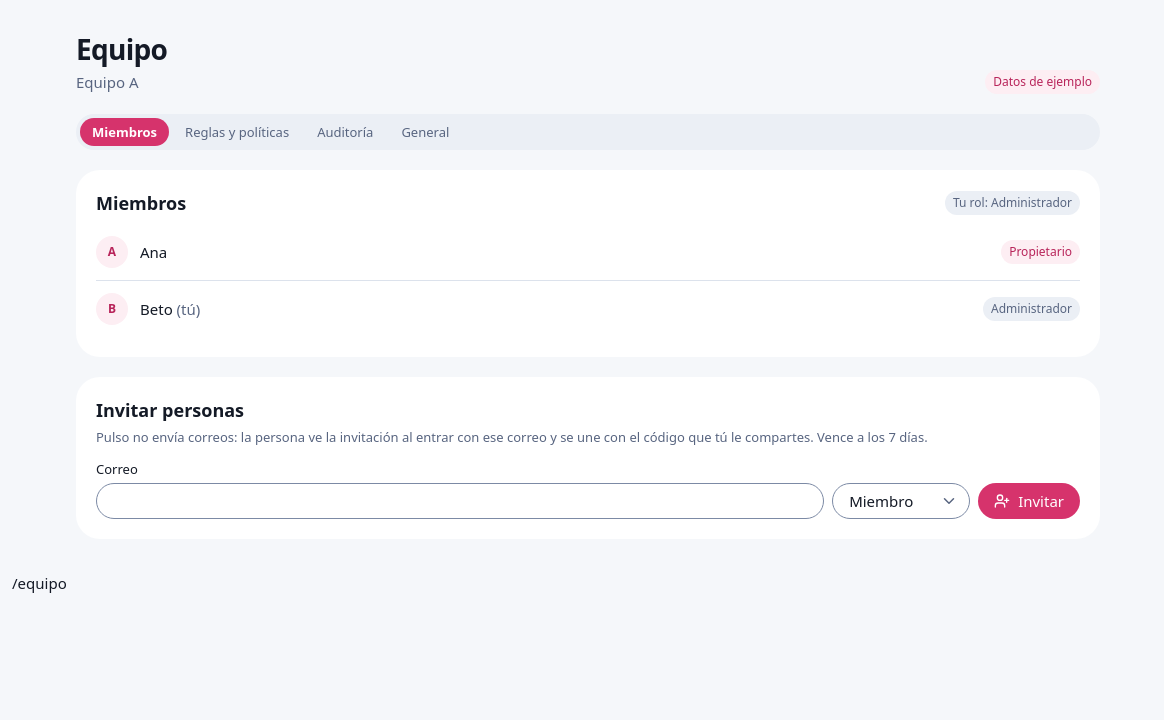
Scenario: Auditoría (EQ-10, AC-22) › si falla la carga inicial, muestra el error traducido en lugar de la lista
Click the tab "Auditoría" at (345, 132), box x1=305 y1=118 x2=385 y2=146
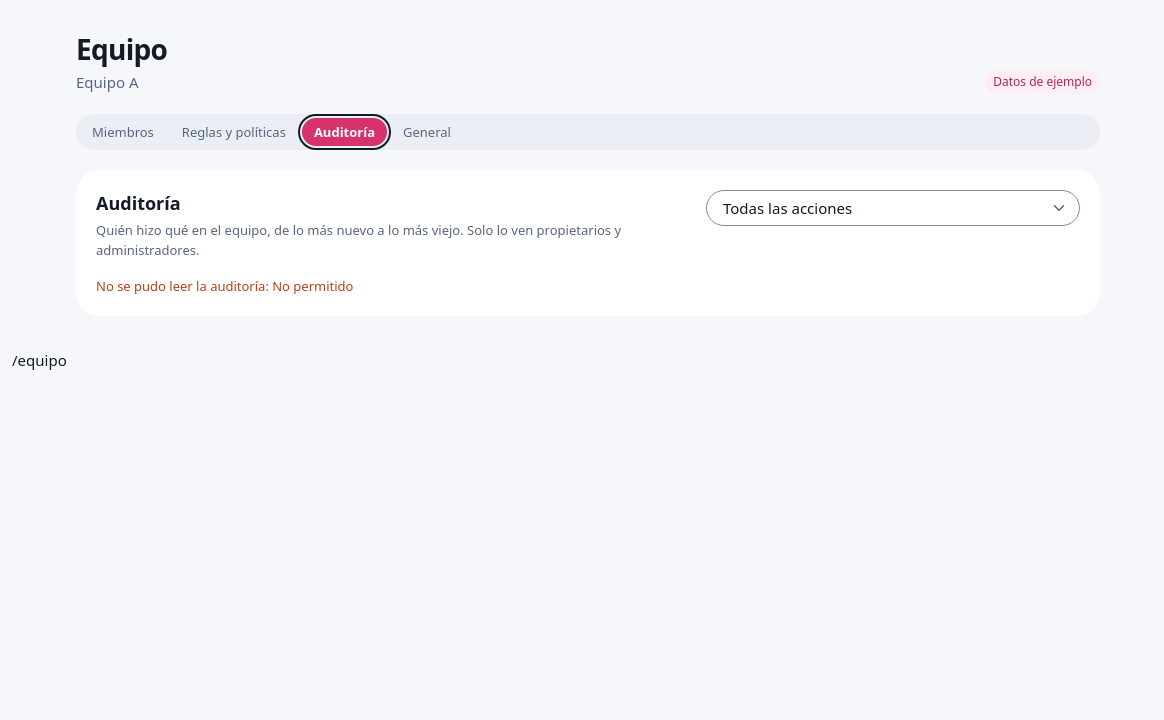
Result: the message shows "No se pudo leer la auditoría" at x1=96 y1=277 x2=354 y2=295
